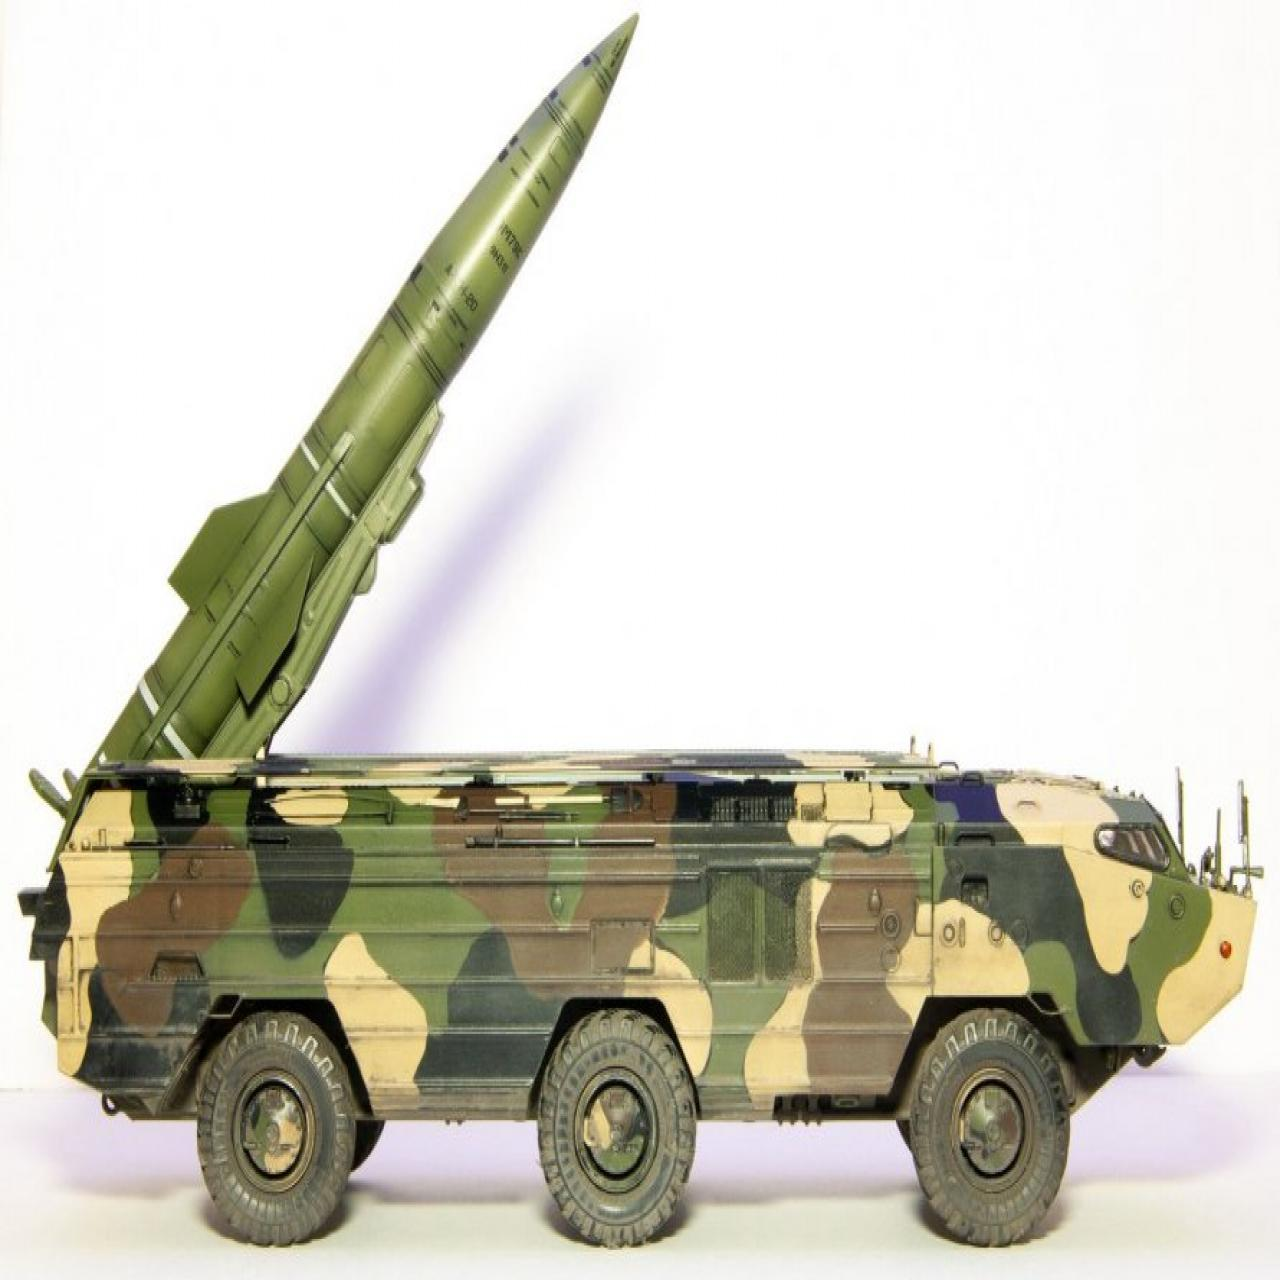MIL_Veh: (42, 16, 1259, 1241)
